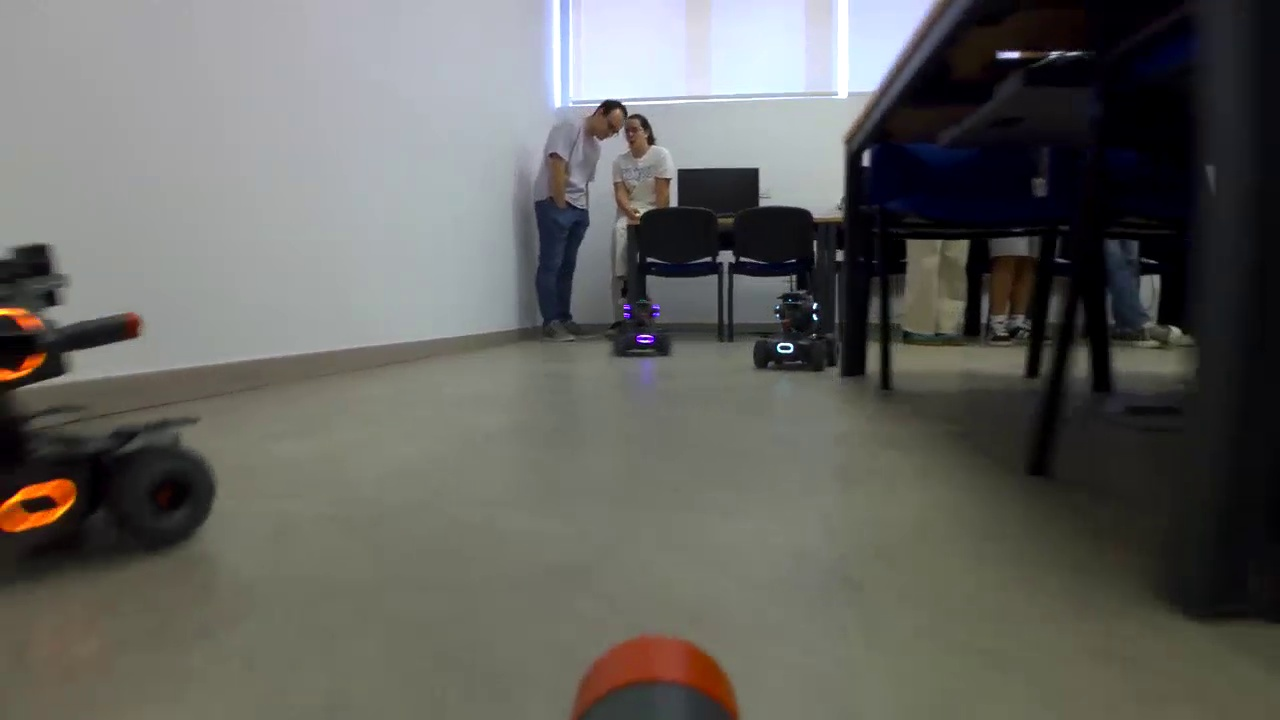robot: (3, 255, 223, 575), (752, 297, 835, 370), (617, 302, 670, 354)
